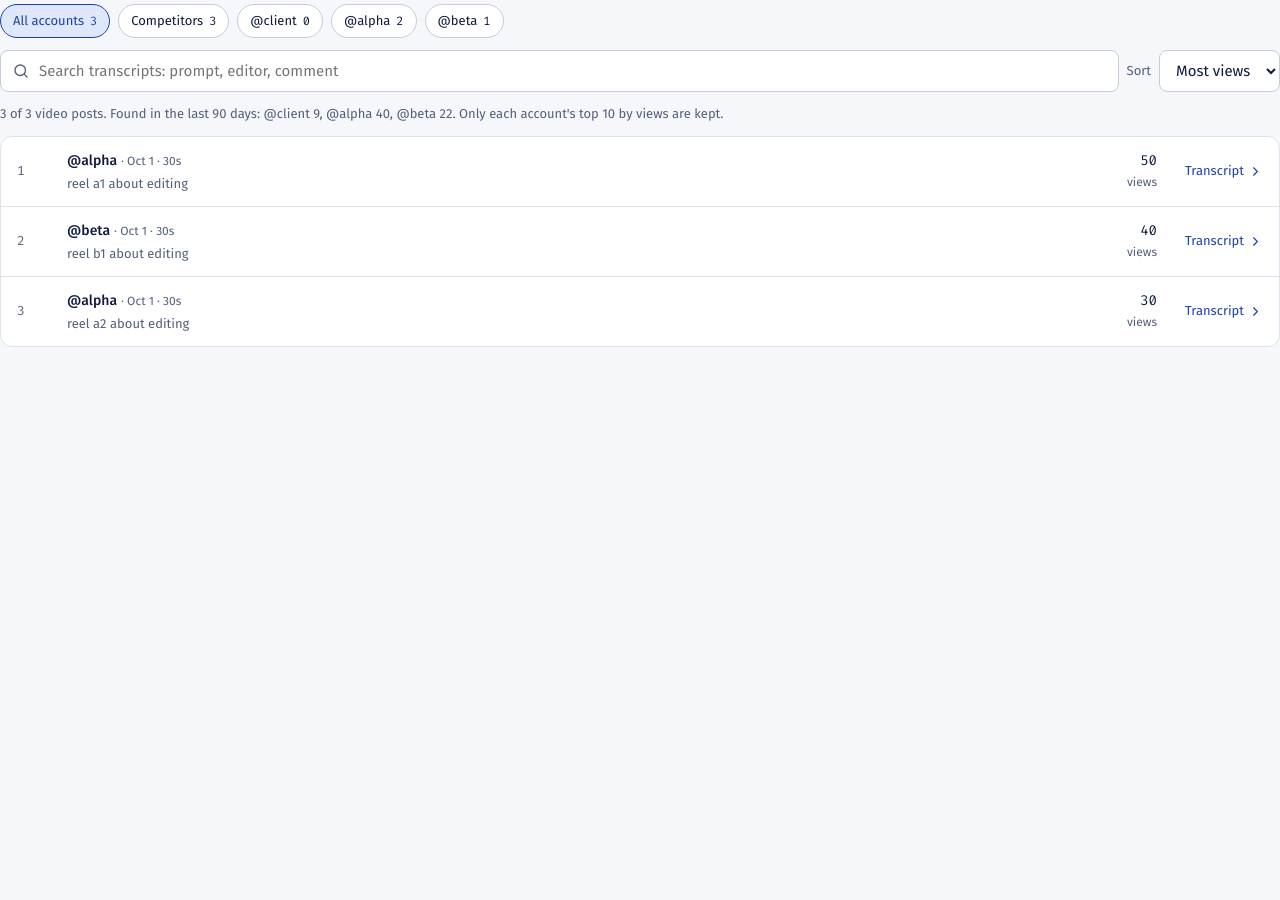
PostsTab › limits Next to the filter in use
This screenshot has width=1280, height=900.
Click the button "@alpha 2": (374, 21) [331,4,416,38]
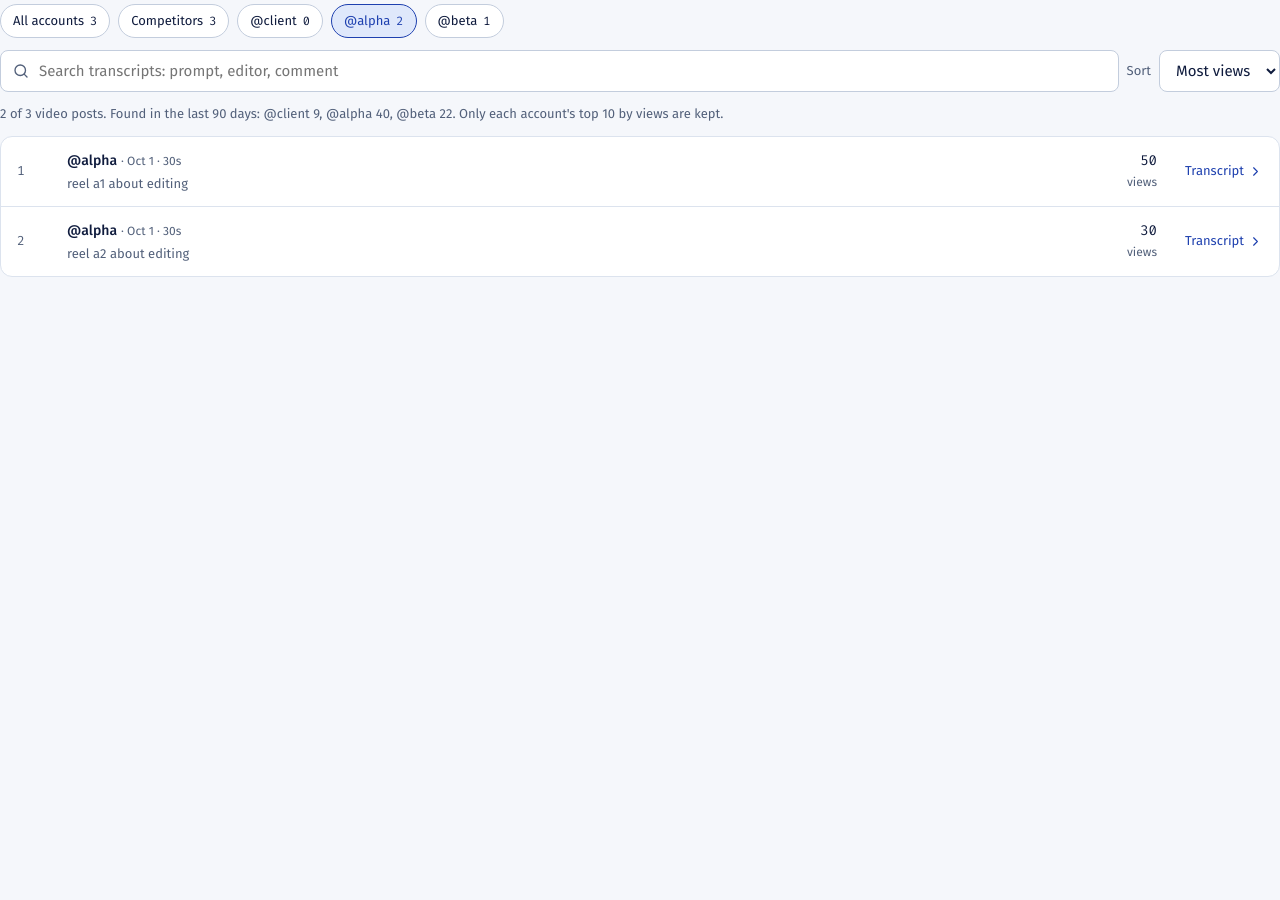
Click the button with aria-label "Open transcript: @alpha, 50 views, Oct 1": (99, 160) [1,136,1279,206]
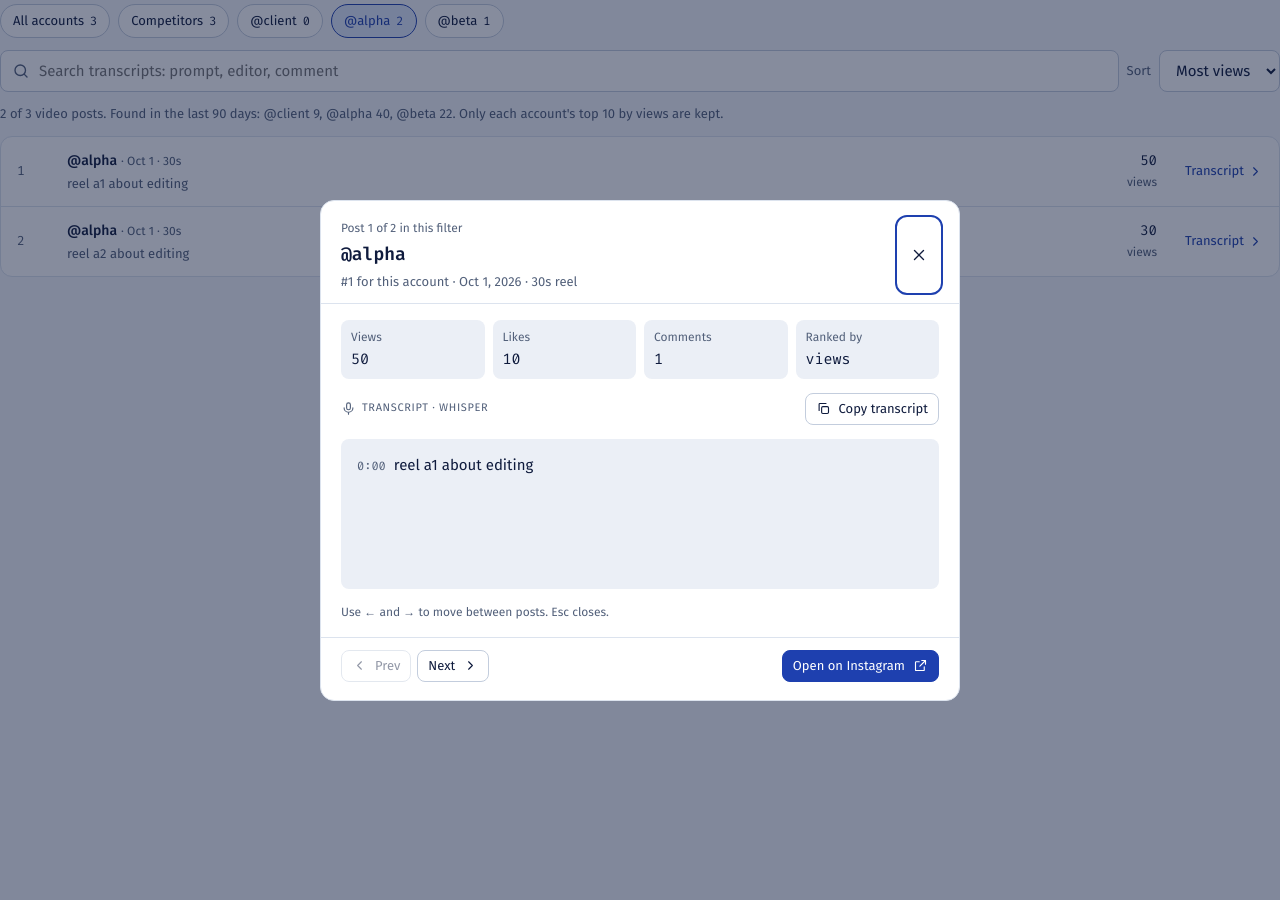
Click the button with aria-label "Next post": (453, 666) [417,650,489,682]
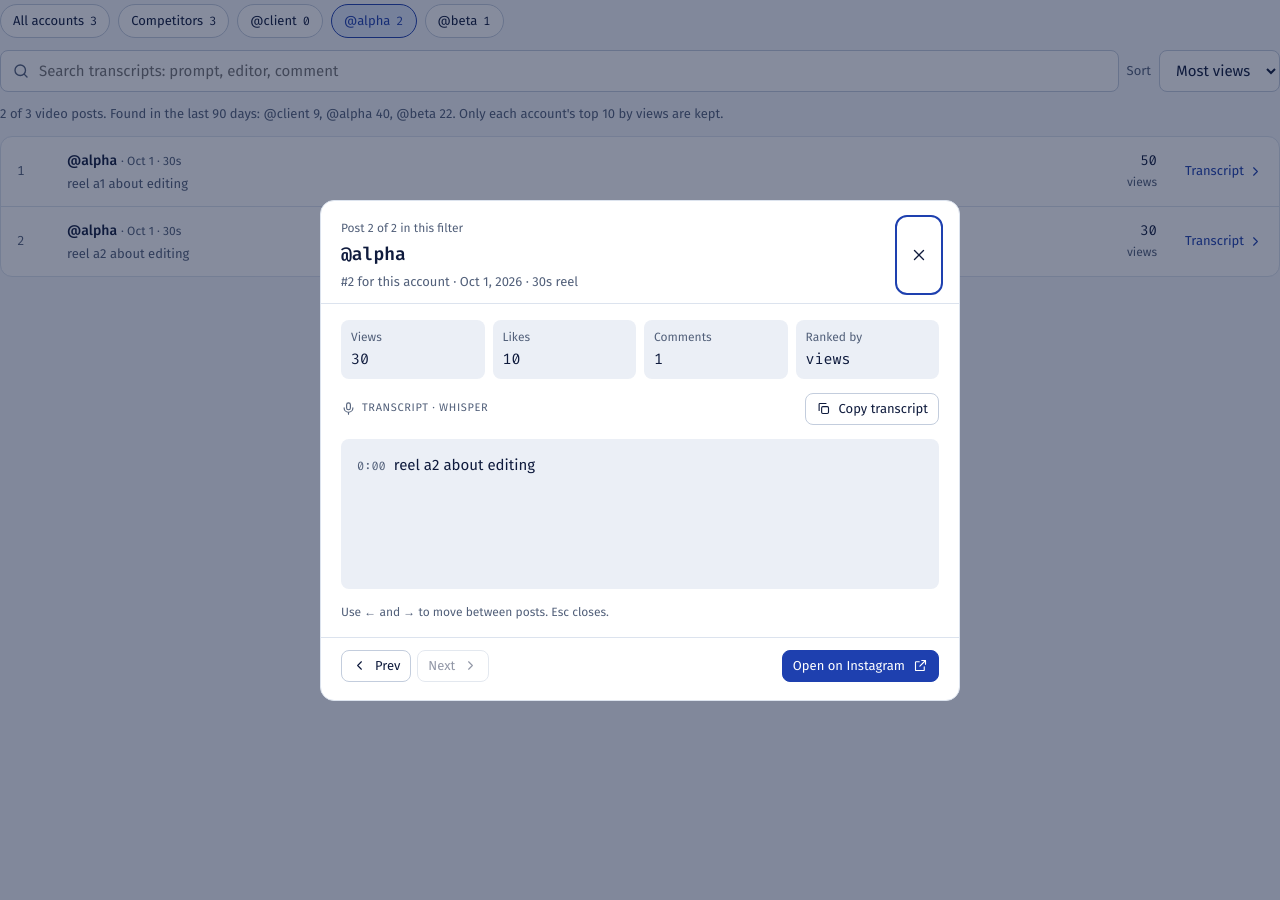
Now the text "Post 2 of 2 in this filter" is shown, box [341,218,463,236]
